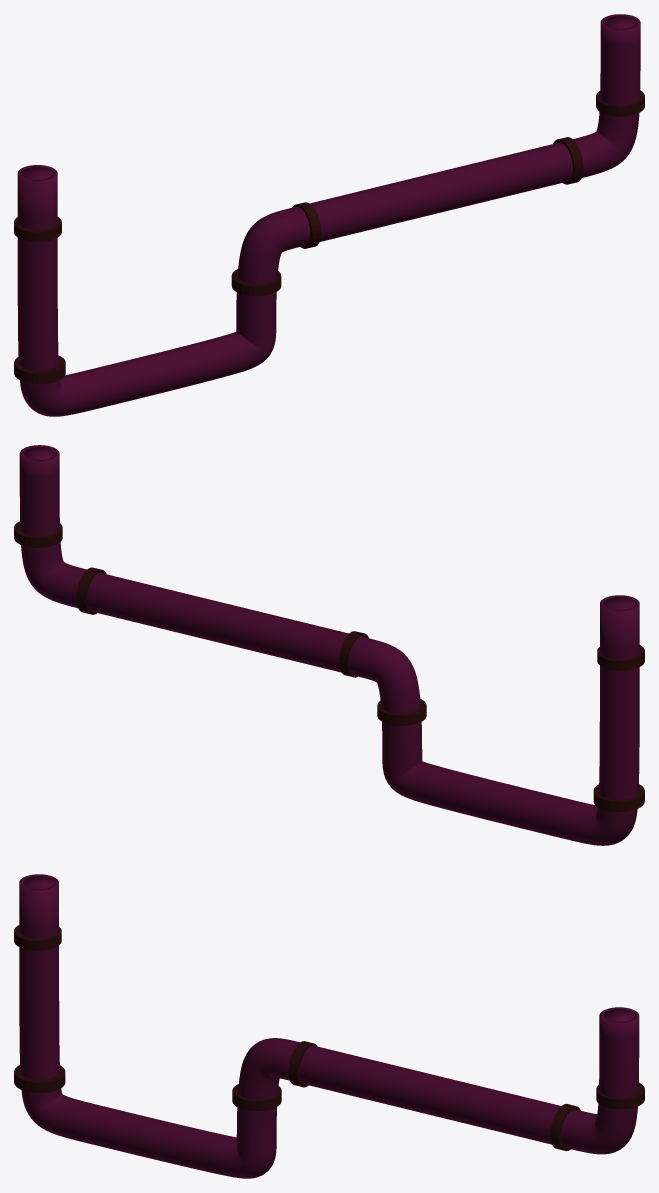
File: パイプ１.fbx
The picture shows the model from 3 angles, top to bottom: view 1: azimuth 30°, elevation 25°; view 2: azimuth 150°, elevation 25°; view 3: azimuth 330°, elevation 25°; orthographic projection.
Visible parts, largest first — view 1: NURBSパス, 円柱.004, 円柱.003, 円柱.005, 円柱, 円柱.011, 円柱.010; view 2: NURBSパス, 円柱.004, 円柱.003, 円柱, 円柱.005, 円柱.011; view 3: NURBSパス, 円柱.004, 円柱.003, 円柱, 円柱.005, 円柱.011, 円柱.010.
Part boxes in pixels (x1,y1,x2,y2): NURBSパス: (17, 14, 640, 416); 円柱.004: (14, 355, 65, 384); 円柱.003: (231, 269, 281, 296); 円柱.005: (14, 217, 61, 241); 円柱: (596, 90, 644, 116); 円柱.011: (553, 137, 583, 184); 円柱.010: (292, 202, 321, 248); NURBSパス: (19, 445, 639, 845); 円柱.004: (593, 784, 644, 812); 円柱.003: (377, 699, 426, 725); 円柱: (14, 521, 62, 547); 円柱.005: (597, 645, 644, 670); 円柱.011: (76, 567, 106, 614); NURBSパス: (19, 874, 639, 1178); 円柱.004: (14, 1065, 65, 1092); 円柱.003: (232, 1084, 281, 1111); 円柱: (596, 1082, 644, 1109); 円柱.005: (14, 925, 61, 950); 円柱.011: (550, 1103, 580, 1151); 円柱.010: (288, 1041, 317, 1087).
Size of the model in its own units: 8.59 by 3.36 by 0.6345.
